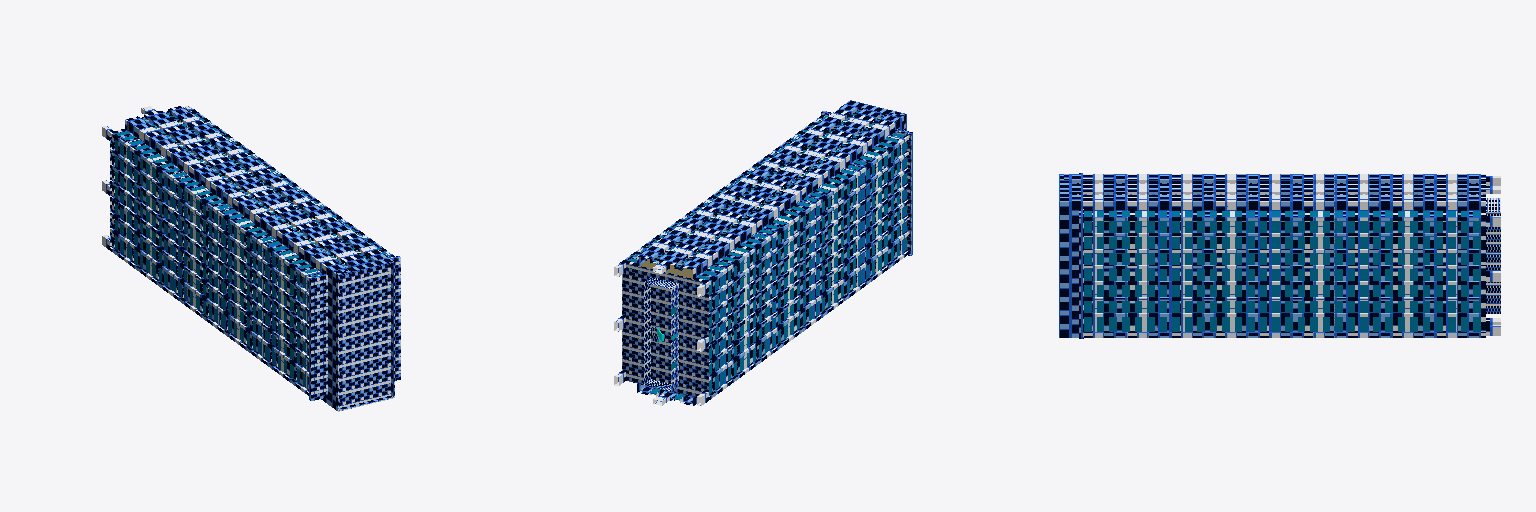
3 renders of one model, left to right at view 1: azimuth 30°, elevation 25°; view 2: azimuth 150°, elevation 25°; view 3: azimuth 270°, elevation 25°, orthographic.
Visible parts, largest first — view 1: Wall_02, Wall_10, Wall_01, Glass_02, Wall_06, Wall_08, Wall_05, Wall_07, Wall_03; view 2: Wall_02, Wall_01, Glass_02, Wall_10, Wall_06, wall_2_01, Wall_05, Wall_09, Wall_03, Glass_01, Wall_08; view 3: Glass_02, Wall_02, Wall_06, Wall_01, Wall_07, Wall_08, wall_2_01, Wall_04, Wall_09.
Part boxes in pixels (left/top/right/bottom): Wall_02: left=125, top=106, right=391, bottom=409; Wall_10: left=110, top=136, right=400, bottom=411; Wall_01: left=110, top=111, right=394, bottom=395; Glass_02: left=115, top=114, right=390, bottom=387; Wall_06: left=112, top=137, right=308, bottom=390; Wall_08: left=309, top=256, right=400, bottom=410; Wall_05: left=113, top=129, right=321, bottom=275; Wall_07: left=328, top=279, right=335, bottom=398; Wall_03: left=141, top=111, right=372, bottom=267; Wall_02: left=637, top=102, right=903, bottom=405; Wall_01: left=622, top=115, right=908, bottom=399; Glass_02: left=628, top=116, right=906, bottom=394; Wall_10: left=622, top=108, right=910, bottom=396; Wall_06: left=624, top=144, right=902, bottom=392; wall_2_01: left=644, top=277, right=678, bottom=390; Wall_05: left=694, top=135, right=901, bottom=397; Wall_09: left=614, top=262, right=708, bottom=405; Wall_03: left=650, top=109, right=885, bottom=400; Glass_01: left=650, top=111, right=882, bottom=399; Wall_08: left=821, top=100, right=912, bottom=255; Glass_02: left=1084, top=211, right=1480, bottom=331; Wall_02: left=1064, top=174, right=1485, bottom=337; Wall_06: left=1092, top=221, right=1485, bottom=331; Wall_01: left=1084, top=217, right=1485, bottom=335; Wall_07: left=1064, top=212, right=1078, bottom=327; Wall_08: left=1059, top=173, right=1083, bottom=338; wall_2_01: left=1486, top=198, right=1500, bottom=313; Wall_04: left=1092, top=211, right=1485, bottom=216; Wall_09: left=1486, top=176, right=1500, bottom=335.
Size of the model in its own units: 998 by 1440 by 4224.
Materials: 5 (1 with a texture image).